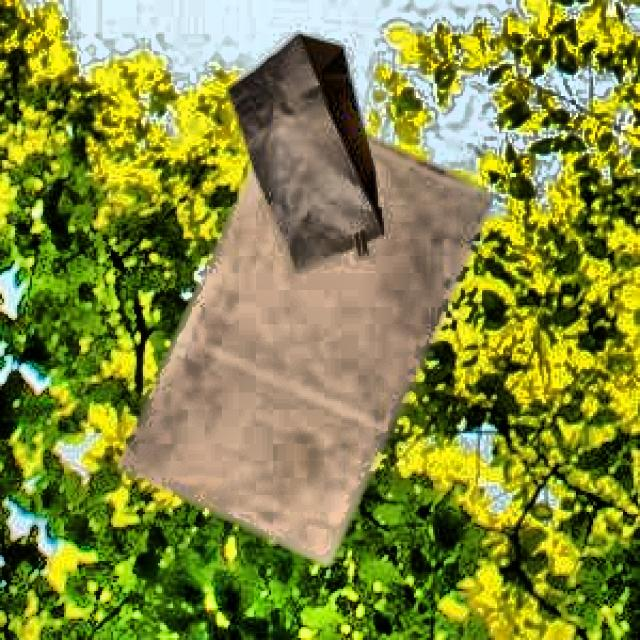Paper-bag: (117, 89, 494, 575), (222, 24, 404, 281)
